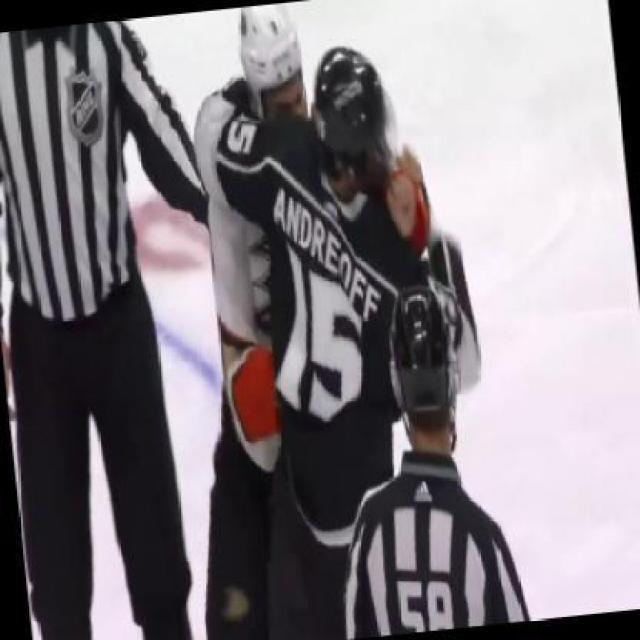fight: (164, 0, 489, 515)
